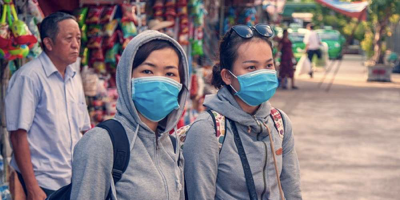with_mask: (132, 61, 183, 124), (232, 57, 279, 108)
without_mask: (55, 31, 80, 62)
